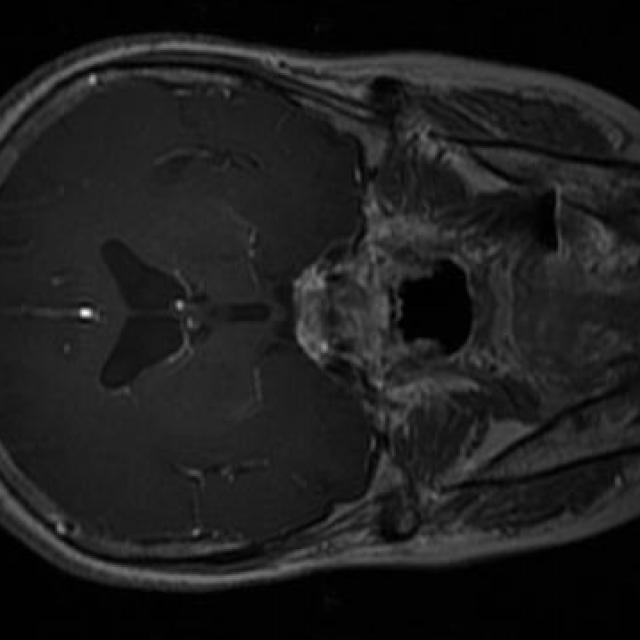glioma: (152, 148, 260, 185)
